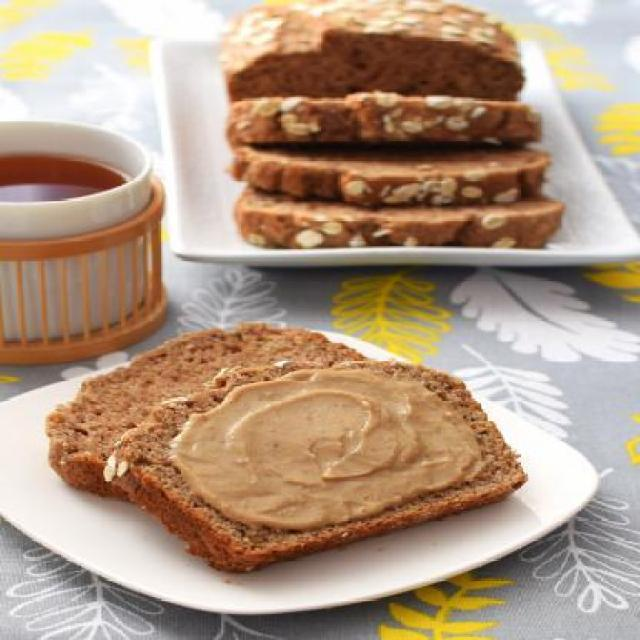Spread: (169, 368, 488, 536)
